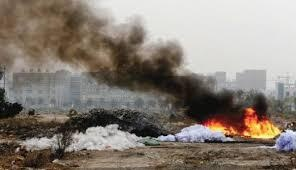fire: (200, 107, 280, 140)
